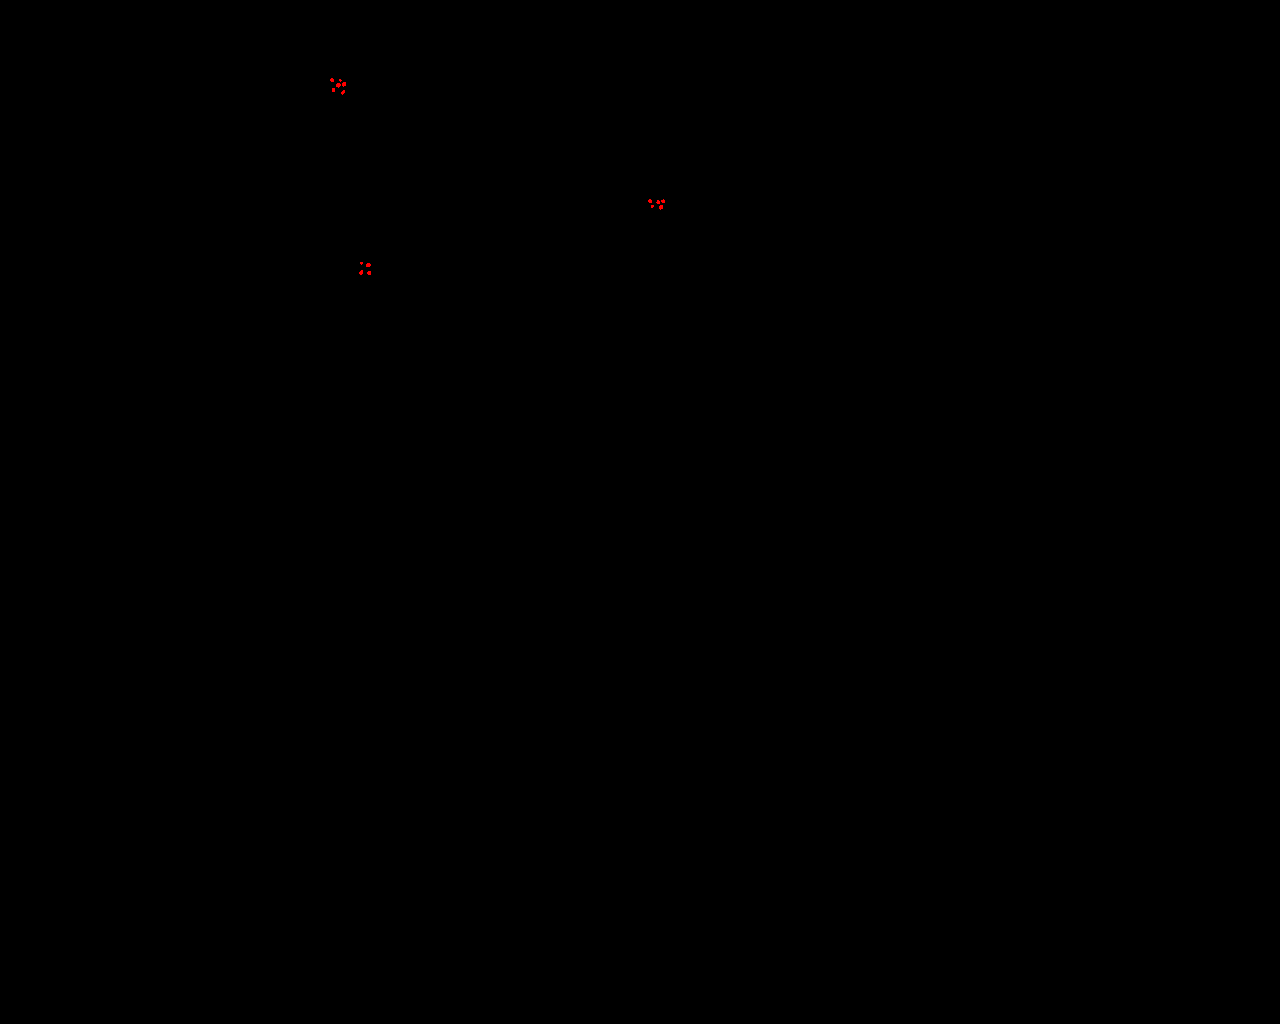Target: (342, 82, 346, 87), (336, 83, 341, 88), (341, 90, 345, 95), (659, 205, 664, 210), (366, 263, 371, 267), (648, 199, 652, 203), (656, 200, 660, 204), (367, 271, 371, 275), (359, 270, 363, 275), (330, 78, 334, 82), (332, 88, 335, 92), (661, 199, 665, 203), (651, 205, 654, 208), (339, 79, 342, 82), (360, 262, 363, 265)
